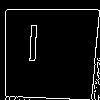I: (23, 24, 42, 71)
